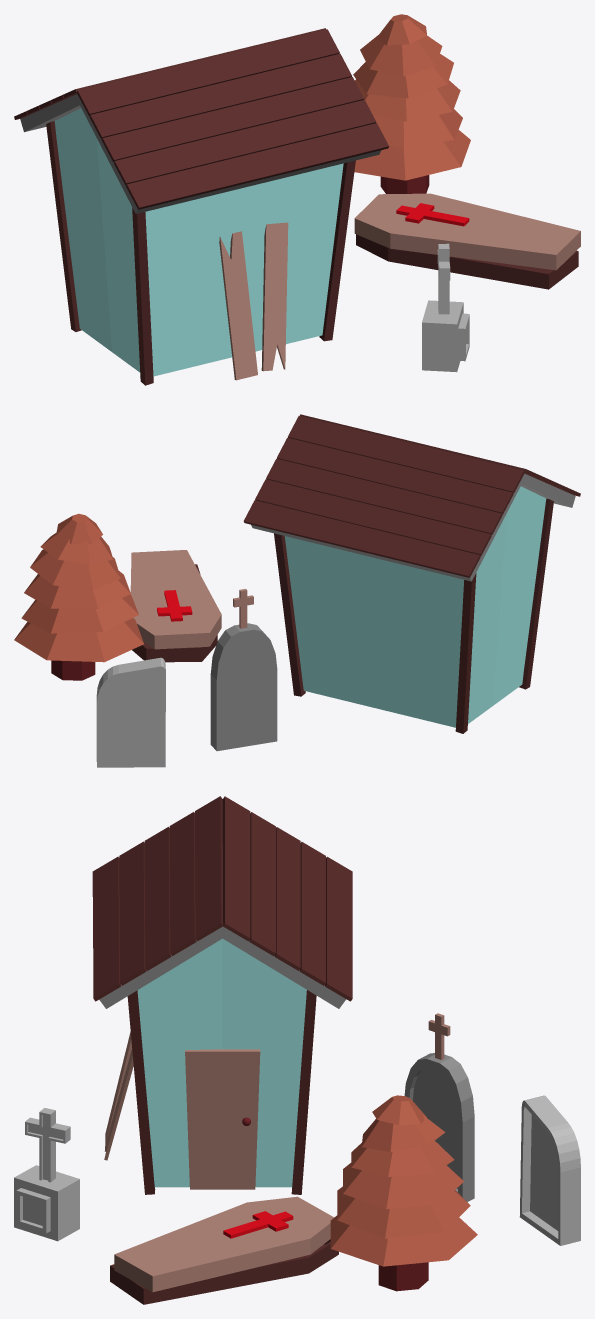
Rendered from HRBITOVASSET1 1.fbx.
The picture shows the model from 3 angles, top to bottom: view 1: azimuth 30°, elevation 25°; view 2: azimuth 150°, elevation 25°; view 3: azimuth 270°, elevation 25°; orthographic projection. The views are drawn at different scales.
Parts seen in each view (by area): view 1: Cube, Plane.004, Cylinder.002, Plane.006, Plane.005, Plane.002, Plane.001, Cube.007, Cube.001, Cube.010, Cube.011, Cube.009 (+4 smaller); view 2: Cube, Plane.003, Cylinder.002, Cube.003, Cube.005, Plane.006, Cube.001, Cube.009, Cube.012, Cube.010, Plane.005, Plane.004 (+3 smaller); view 3: Cube, Plane.004, Plane.003, Cylinder.002, Plane.006, Cube.002, Cube.005, Cube.003, Cube.007, Plane.005, Cube.001, Cube.011 (+5 smaller).
Part boxes in pixels (bbox=[...]): Cube: bbox=[54, 108, 343, 376]; Plane.004: bbox=[76, 29, 389, 209]; Cylinder.002: bbox=[353, 14, 470, 180]; Plane.006: bbox=[354, 193, 580, 270]; Plane.005: bbox=[356, 234, 578, 289]; Plane.002: bbox=[261, 222, 288, 371]; Plane.001: bbox=[219, 231, 257, 380]; Cube.007: bbox=[422, 300, 469, 372]; Cube.001: bbox=[20, 94, 381, 213]; Cube.010: bbox=[132, 207, 153, 385]; Cube.011: bbox=[319, 160, 355, 341]; Cube.009: bbox=[46, 121, 81, 331]; Cube: bbox=[284, 486, 546, 727]; Plane.003: bbox=[243, 415, 524, 577]; Cylinder.002: bbox=[14, 513, 143, 662]; Cube.003: bbox=[210, 623, 277, 751]; Cube.005: bbox=[96, 657, 165, 767]; Plane.006: bbox=[130, 550, 221, 649]; Cube.001: bbox=[251, 473, 575, 581]; Cube.009: bbox=[455, 573, 476, 733]; Cube.012: bbox=[274, 533, 305, 696]; Cube.010: bbox=[519, 498, 553, 689]; Plane.005: bbox=[132, 564, 217, 662]; Plane.004: bbox=[300, 414, 580, 496]; Cube: bbox=[137, 938, 306, 1187]; Plane.004: bbox=[92, 796, 223, 1001]; Plane.003: bbox=[222, 796, 352, 1001]; Cylinder.002: bbox=[330, 1095, 477, 1266]; Plane.006: bbox=[114, 1196, 333, 1292]; Cube.002: bbox=[185, 1049, 260, 1189]; Cube.005: bbox=[519, 1095, 580, 1245]; Cube.003: bbox=[404, 1053, 474, 1201]; Cube.007: bbox=[14, 1165, 79, 1241]; Plane.005: bbox=[110, 1239, 338, 1304]; Cube.001: bbox=[99, 926, 346, 1008]; Cube.011: bbox=[127, 990, 155, 1194].
Bounding box in the file's own units: 562 × 318 × 561.
